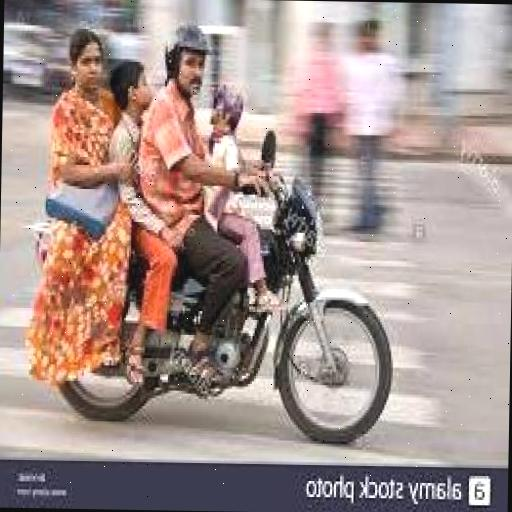helmet: (159, 18, 228, 140)
triple riding: (18, 6, 411, 452)
